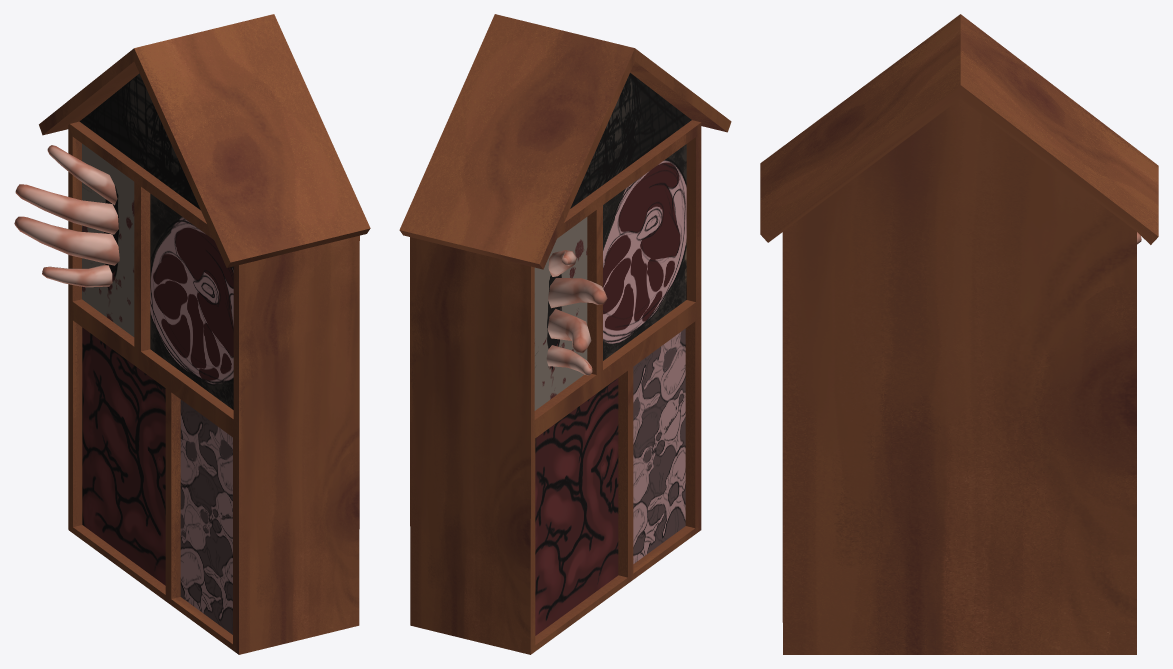
Rendered from Insect_hotel01.fbx.
3 renders of one model, left to right at view 1: azimuth 30°, elevation 25°; view 2: azimuth 150°, elevation 25°; view 3: azimuth 270°, elevation 25°, orthographic. The views are drawn at different scales.
Visible parts, largest first — view 1: Insect_hotel01; view 2: Insect_hotel01; view 3: Insect_hotel01.
Boxes of the visible parts, left/top/right/bottom form: Insect_hotel01: left=14, top=14, right=370, bottom=654; Insect_hotel01: left=399, top=14, right=731, bottom=654; Insect_hotel01: left=760, top=14, right=1158, bottom=654.
Bounding box in the file's own units: 307 × 874 × 552.
2 materials, 2 textured.
